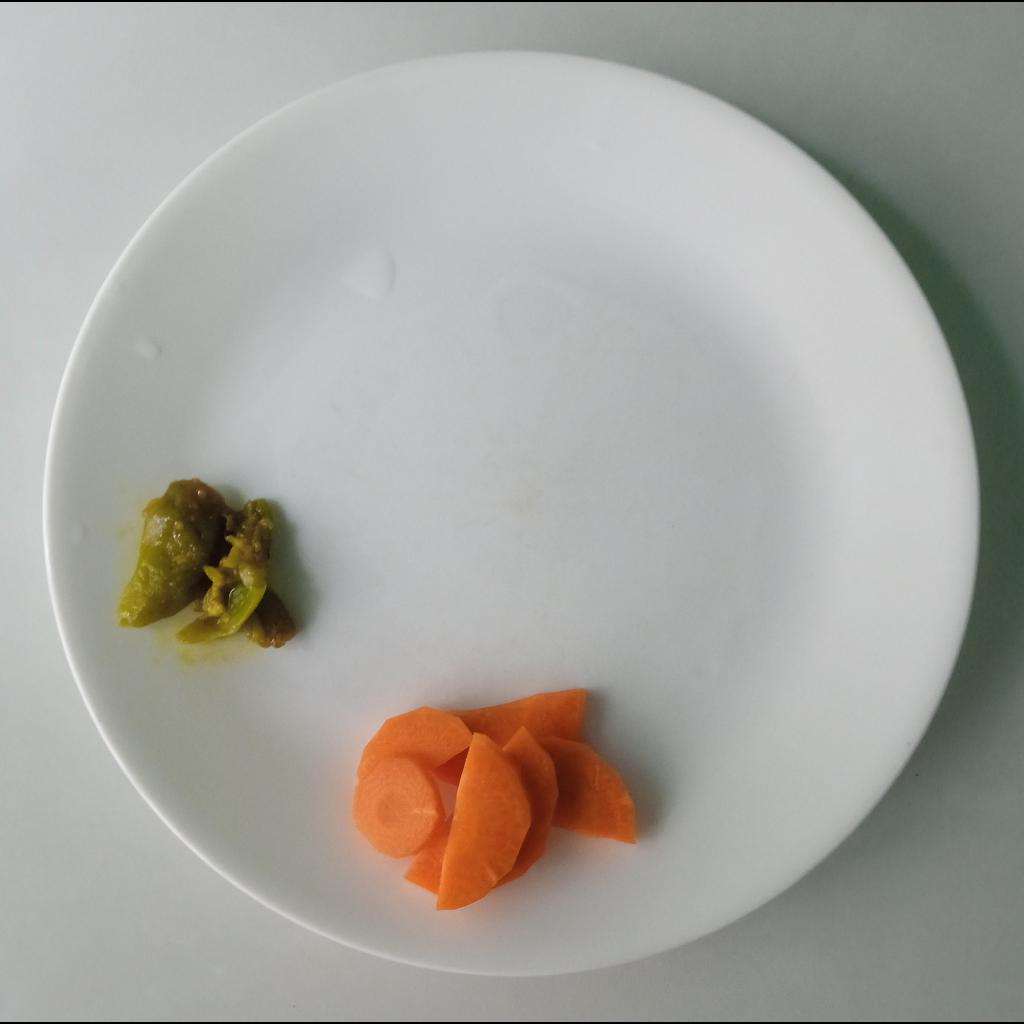carrot: (352, 689, 638, 913)
dundol: (116, 477, 298, 650)
